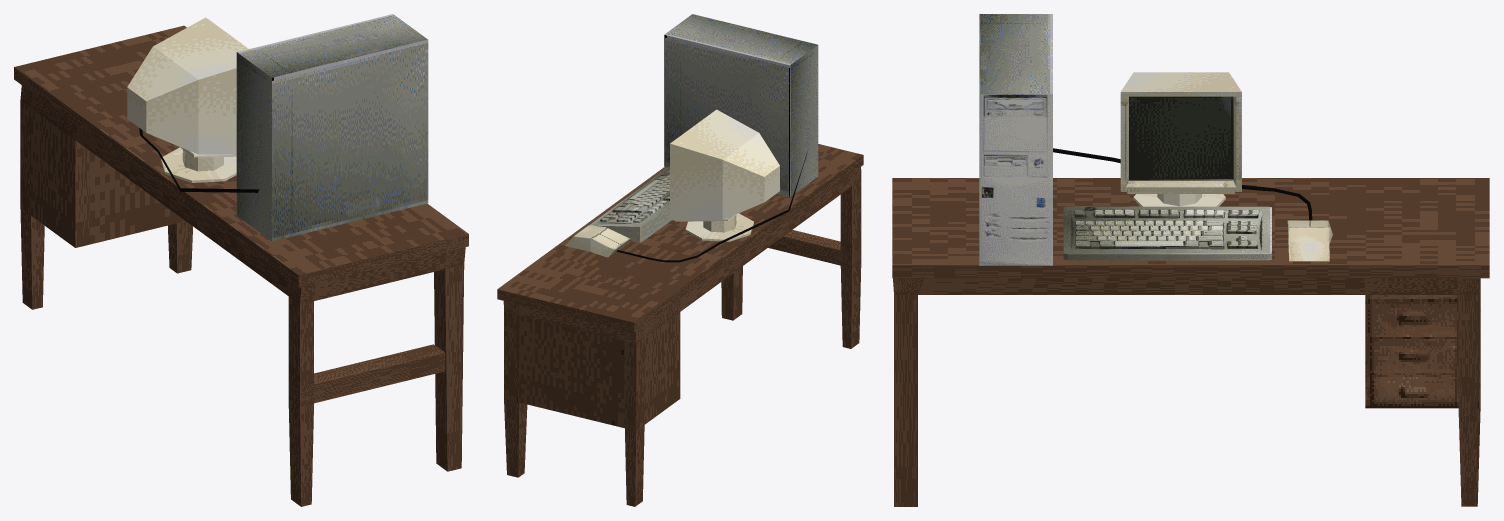
Rendered from Computer_Retro.glb.
3 renders of one model, left to right at view 1: azimuth 30°, elevation 25°; view 2: azimuth 150°, elevation 25°; view 3: azimuth 270°, elevation 25°, orthographic. The views are drawn at different scales.
Visible parts, largest first — view 1: Desk, Case, Screen, Cable; view 2: Desk, Case, Screen, Keyboard, Mouse, Cable; view 3: Desk, Case, Screen, Keyboard, Mouse, Cable.
Boxes of the visible parts, x1,y1,x2,y2 form: Desk: [14, 25, 468, 506]; Case: [236, 14, 428, 241]; Screen: [127, 17, 248, 182]; Cable: [139, 128, 258, 192]; Desk: [497, 144, 863, 506]; Case: [664, 14, 818, 196]; Screen: [670, 109, 779, 241]; Keyboard: [590, 167, 671, 242]; Mouse: [565, 225, 629, 257]; Cable: [616, 152, 807, 262]; Desk: [892, 178, 1489, 506]; Case: [979, 14, 1052, 265]; Screen: [1120, 72, 1241, 206]; Keyboard: [1063, 206, 1271, 260]; Mouse: [1287, 220, 1332, 261]; Cable: [1053, 148, 1312, 220].
Bounding box in the file's own units: 1.76 × 3.41 × 4.43.
3 materials, 2 textured.
